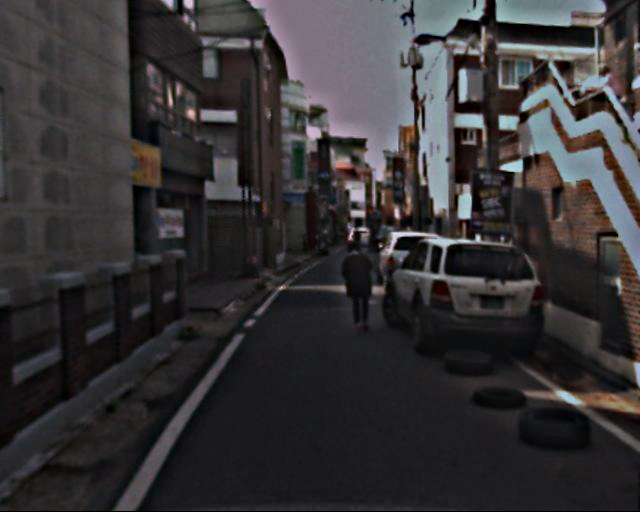person: (339, 243, 377, 336)
